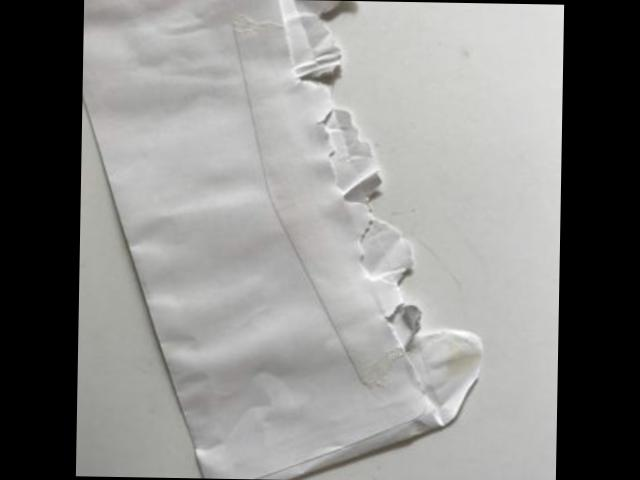cardboard paper: (83, 0, 484, 479)
